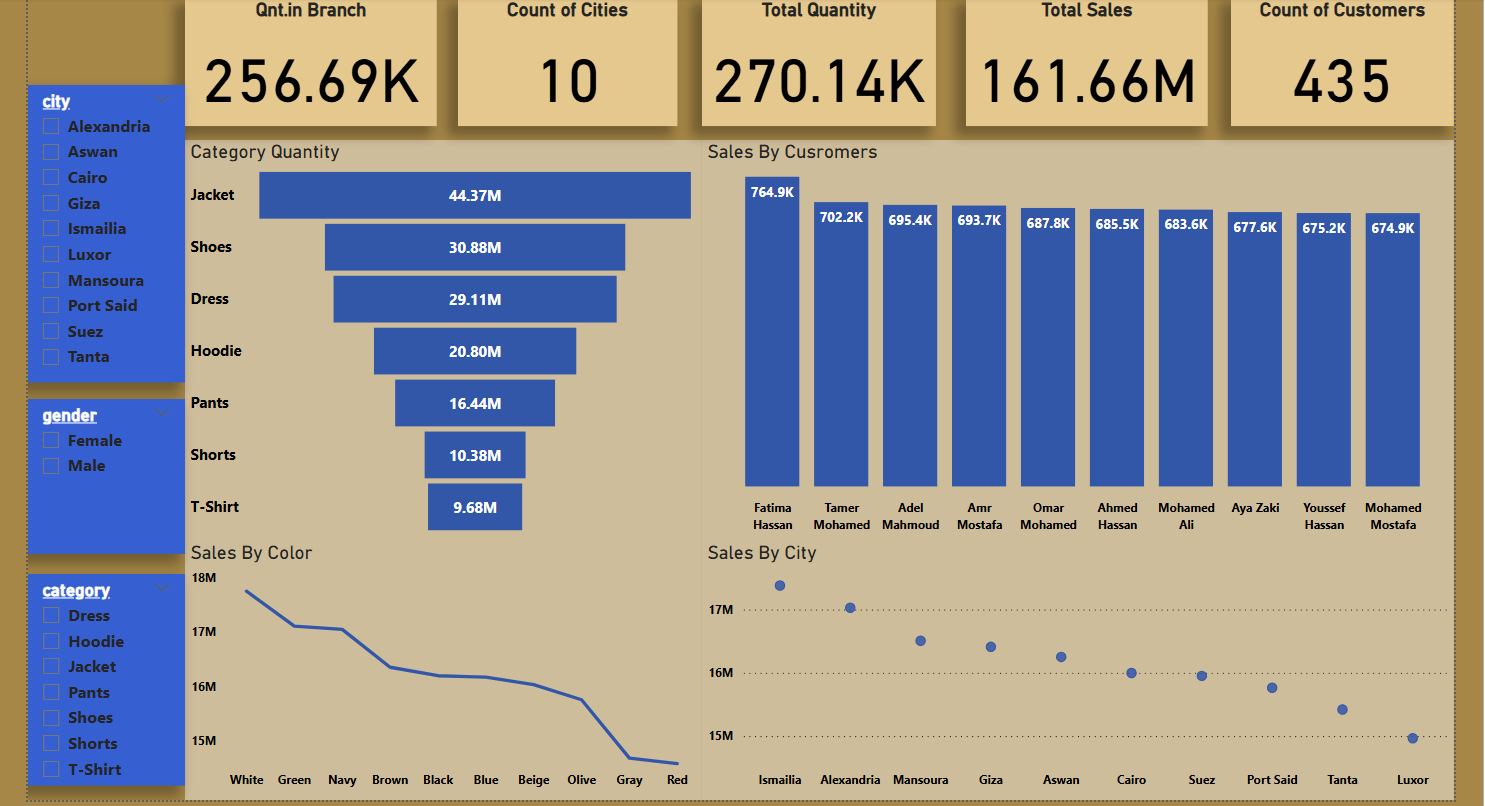

What the dashboard file says about the page in this screenshot:
{"tool":"powerbi","page":{"name":"Dash Board","canvas":[1280,720],"ordinal":0},"visuals":[{"type":"funnel","title":"Category Quantity","fields":{"Category":["products.category"],"Y":["Sum(sales.total_price)"]},"box":[140.9,127.5,464.1,360],"z":0},{"type":"columnChart","title":"Sales By Cusromers","fields":{"Category":["customers.full_name"],"Y":["Sum(sales.total_price)"]},"box":[605.1,127.5,675.1,360],"z":1000},{"type":"lineChart","title":"Sales By Color","fields":{"Category":["products.color"],"Y":["Sum(sales.total_price)"]},"box":[140.9,487.5,464.1,232.5],"z":2000},{"type":"scatterChart","title":"Sales By City","fields":{"X":["customers.city"],"Y":["Sum(sales.total_price)"]},"box":[605.1,487.5,675.1,232.5],"z":3000},{"type":"card","title":"Count of Customers","fields":{"Values":["Count(customers.full_name)"]},"box":[1080,0,200.2,114.9],"z":4000},{"type":"card","title":"Total Sales","fields":{"Values":["Sum(sales.total_price)"]},"box":[842.1,0,217.3,114.9],"z":5000},{"type":"card","title":"Total Quantity","fields":{"Values":["Sum(sales.quantity)"]},"box":[605.1,0,210.1,114.9],"z":6000},{"type":"card","title":"Count of Cities","fields":{"Values":["Count(customers.city)"]},"box":[386,0,196.6,114.9],"z":7000},{"type":"card","title":"Qnt.in Branch","fields":{"Values":["Sum(stock.quantity_in_stock)"]},"box":[140.9,0,226.2,114.9],"z":8000},{"type":"slicer","fields":{"Values":["customers.city"]},"box":[0,78.1,140.9,266.6],"z":9000},{"type":"slicer","fields":{"Values":["customers.gender"]},"box":[0,360,140.9,139.2],"z":9001},{"type":"slicer","fields":{"Values":["products.category"]},"box":[0,517.1,140.9,190.3],"z":9002}]}

Visuals, with their boxes on the page's 1280x720 design canvas (x1, y1, x2, y2). These are canvas units, not pixel positions in the 1485x806 screenshot, which may show the page scaled, cropped or inside an application window:
"Category Quantity" funnel: 141 128 605 488
"Sales By Cusromers" columnChart: 605 128 1280 488
"Sales By Color" lineChart: 141 488 605 720
"Sales By City" scatterChart: 605 488 1280 720
"Count of Customers" card: 1080 0 1280 115
"Total Sales" card: 842 0 1059 115
"Total Quantity" card: 605 0 815 115
"Count of Cities" card: 386 0 583 115
"Qnt.in Branch" card: 141 0 367 115
slicer - customers.city: 0 78 141 345
slicer - customers.gender: 0 360 141 499
slicer - products.category: 0 517 141 707
